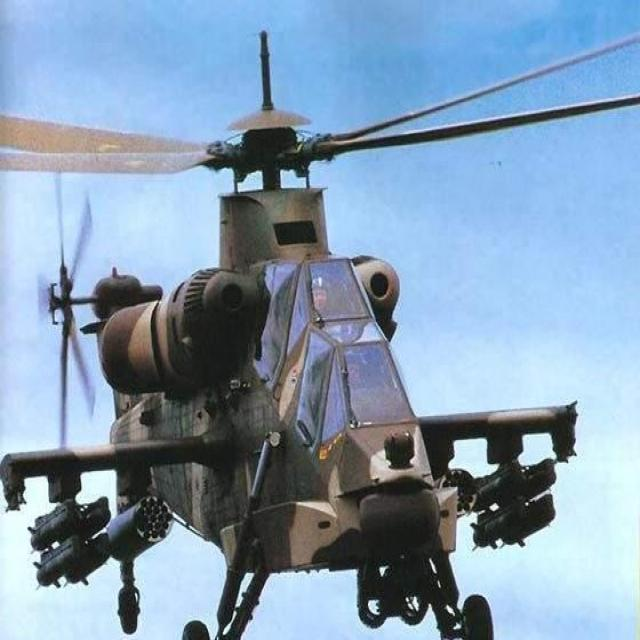MIL_HELO: (0, 8, 618, 631)
